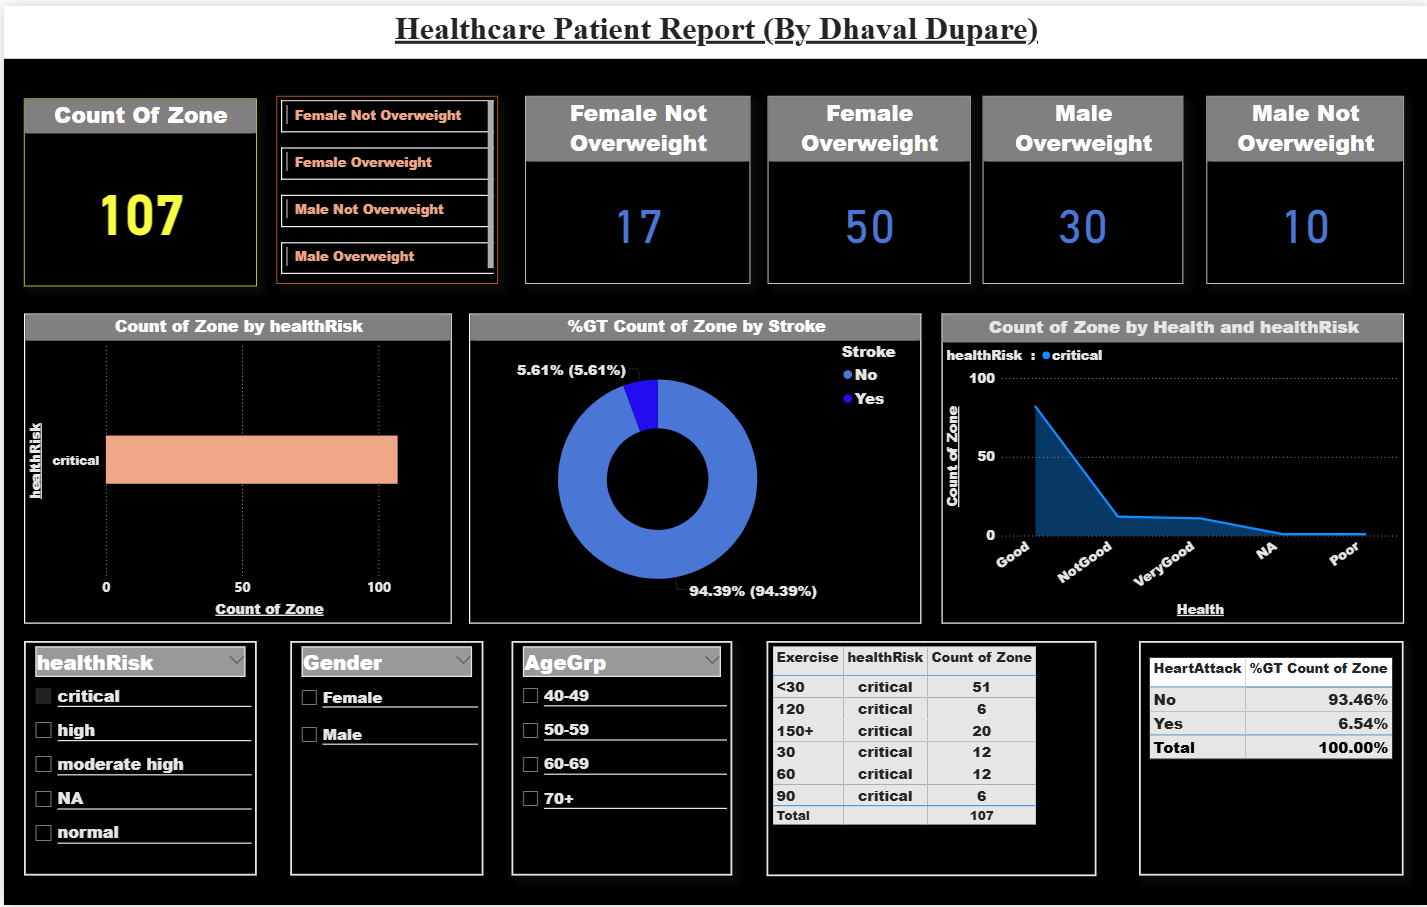

The page's visual inventory and layout, read from the dashboard file:
{"tool":"powerbi","page":{"name":"Page 1","canvas":[1900,1200],"ordinal":0},"visuals":[{"type":"card","title":"Count Of Zone","fields":{"Values":["CountNonNull(Table1.Zone)"]},"box":[26.7,123.3,310,250],"z":0},{"type":"multiRowCard","fields":{"Values":["Table1.Overweight"]},"box":[362.5,120,295,250],"z":1000},{"type":"card","title":"Female Not Overweight","fields":{"Values":["CountNonNull(Table1.Overweight)"]},"box":[695,120,300,250],"z":2000},{"type":"card","title":"Female Overweight","fields":{"Values":["CountNonNull(Table1.Overweight)"]},"box":[1017.5,120,270,250],"z":3000},{"type":"actionButton","box":[0,0,100,40],"z":4000},{"type":"card","title":"Male Not Overweight","fields":{"Values":["CountNonNull(Table1.Overweight)"]},"box":[1603.3,120,263.3,250],"z":5000},{"type":"card","title":"Male Overweight","fields":{"Values":["CountNonNull(Table1.Overweight)"]},"box":[1305,120,267.5,250],"z":6000},{"type":"barChart","fields":{"Y":["CountNonNull(Table1.Zone)"],"Category":["Table1.healthRisk"]},"box":[26.7,410,570,413.3],"z":7000},{"type":"donutChart","fields":{"Category":["Table1.Stroke"],"Y":["CountNonNull(Table1.Zone)"]},"box":[620,410,603.3,413.3],"z":8000},{"type":"areaChart","fields":{"Category":["Table1.Health"],"Y":["CountNonNull(Table1.Zone)"],"Series":["Table1.healthRisk"]},"box":[1250,410,616.7,413.3],"z":9000},{"type":"slicer","fields":{"Values":["Table1.healthRisk"]},"box":[26.3,847.4,310.5,313.2],"z":10000},{"type":"slicer","fields":{"Values":["Table1.Gender"]},"box":[381.6,847.4,257.9,313.2],"z":11000},{"type":"slicer","fields":{"Values":["Table1.AgeGrp"]},"box":[676.3,847.4,294.7,313.2],"z":12000},{"type":"tableEx","fields":{"Values":["Table1.HeartAttack","Table1.Zone"]},"box":[1513.2,847.4,352.6,313.2],"z":13000},{"type":"tableEx","fields":{"Values":["Table1.Exercise","Table1.healthRisk","Table1.Zone"]},"box":[1016.7,846.7,440,313.3],"z":14000},{"type":"textbox","box":[0,0,1900,70],"z":15000}]}

Visuals, with their boxes in screenshot pixels (x1, y1, x2, y2), scaled from the page's 1900x1200 canvas onto the 1427x907 screenshot:
"Count Of Zone" card: box=[20, 93, 253, 282]
multiRowCard - Table1.Overweight: box=[272, 91, 494, 280]
"Female Not Overweight" card: box=[522, 91, 747, 280]
"Female Overweight" card: box=[764, 91, 967, 280]
actionButton: box=[0, 0, 75, 30]
"Male Not Overweight" card: box=[1204, 91, 1402, 280]
"Male Overweight" card: box=[980, 91, 1181, 280]
barChart - CountNonNull(Table1.Zone) x Table1.healthRisk: box=[20, 310, 448, 622]
donutChart - Table1.Stroke x CountNonNull(Table1.Zone): box=[466, 310, 919, 622]
areaChart - Table1.Health x CountNonNull(Table1.Zone): box=[939, 310, 1402, 622]
slicer - Table1.healthRisk: box=[20, 640, 253, 877]
slicer - Table1.Gender: box=[287, 640, 480, 877]
slicer - Table1.AgeGrp: box=[508, 640, 729, 877]
tableEx - Table1.HeartAttack x Table1.Zone: box=[1136, 640, 1401, 877]
tableEx - Table1.Exercise x Table1.healthRisk: box=[764, 640, 1094, 877]
textbox: box=[0, 0, 1426, 53]
